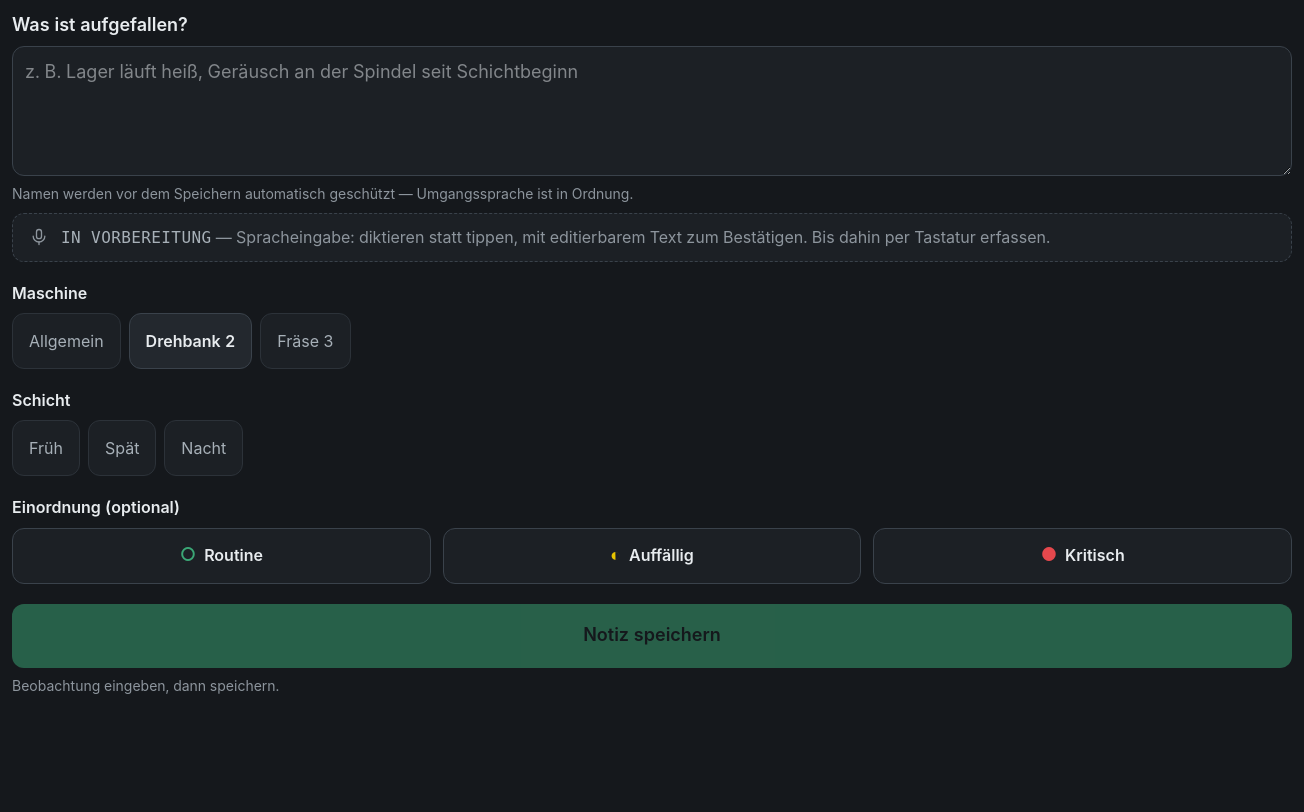
Test: CaptureForm — Offline-Puffer (Degradation) › puffert lokal und meldet 'wird gesendet, sobald online' — kein POST
Type "Notiz ohne Netz" into the text box labelled "Was ist aufgefallen?" at (652, 111), box [12,46,1292,176]
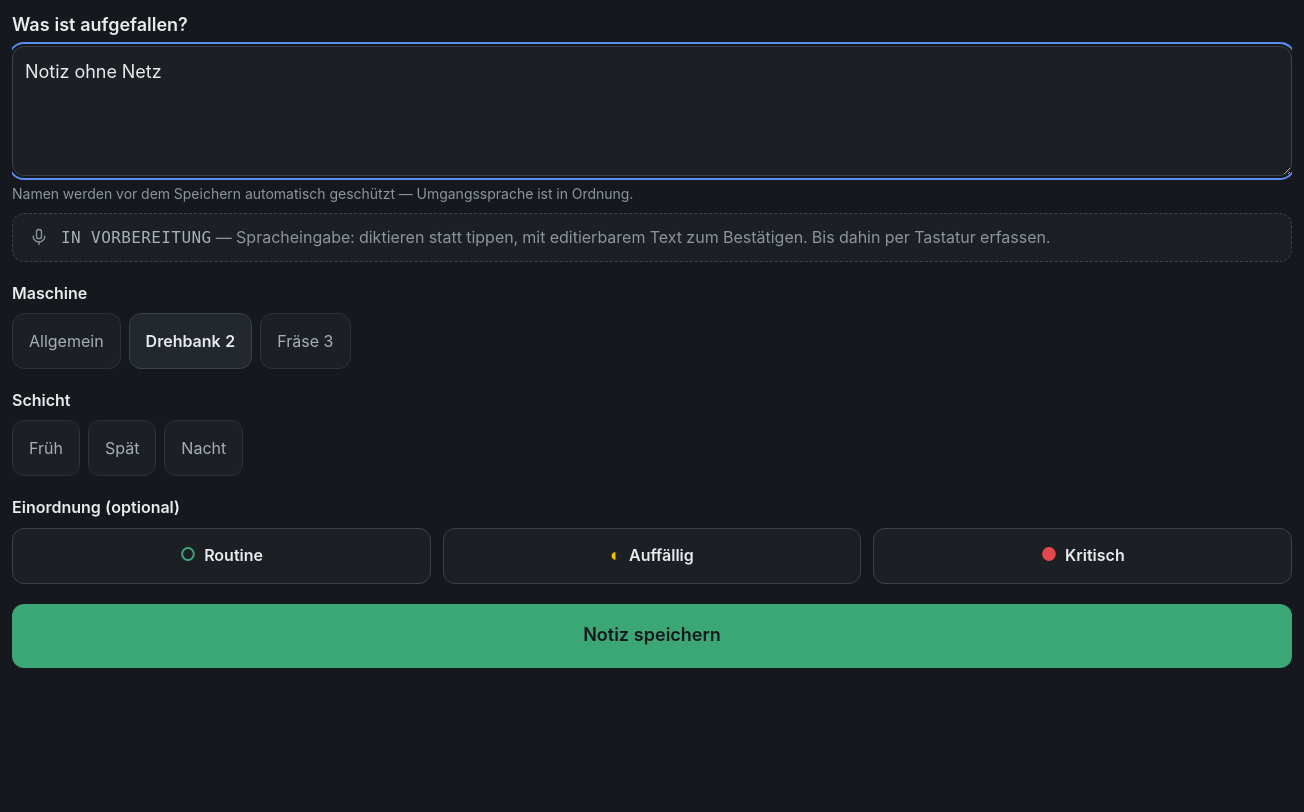
Click the button "Notiz speichern" at (652, 636), box [12,604,1292,668]
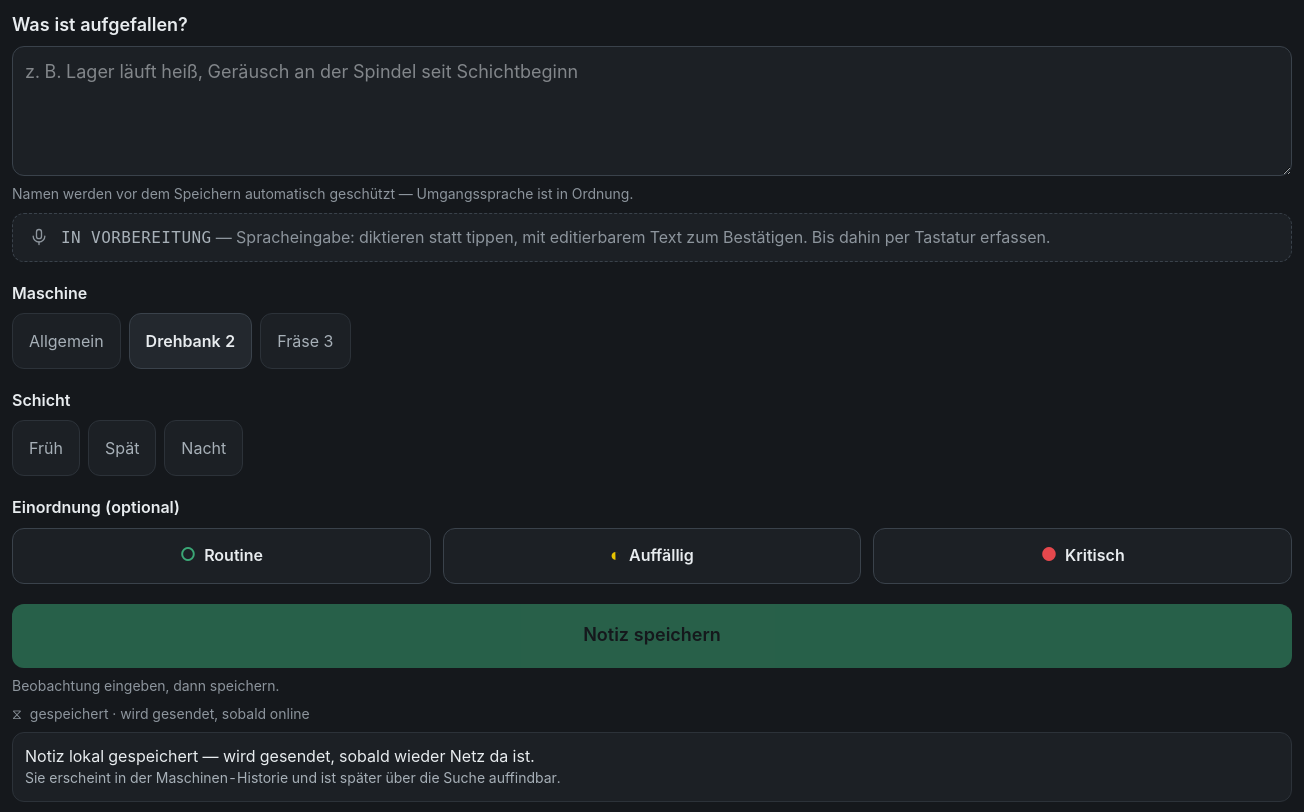
Expected: the text "wird gesendet, sobald wieder Netz" is shown, [25,746,534,766]
